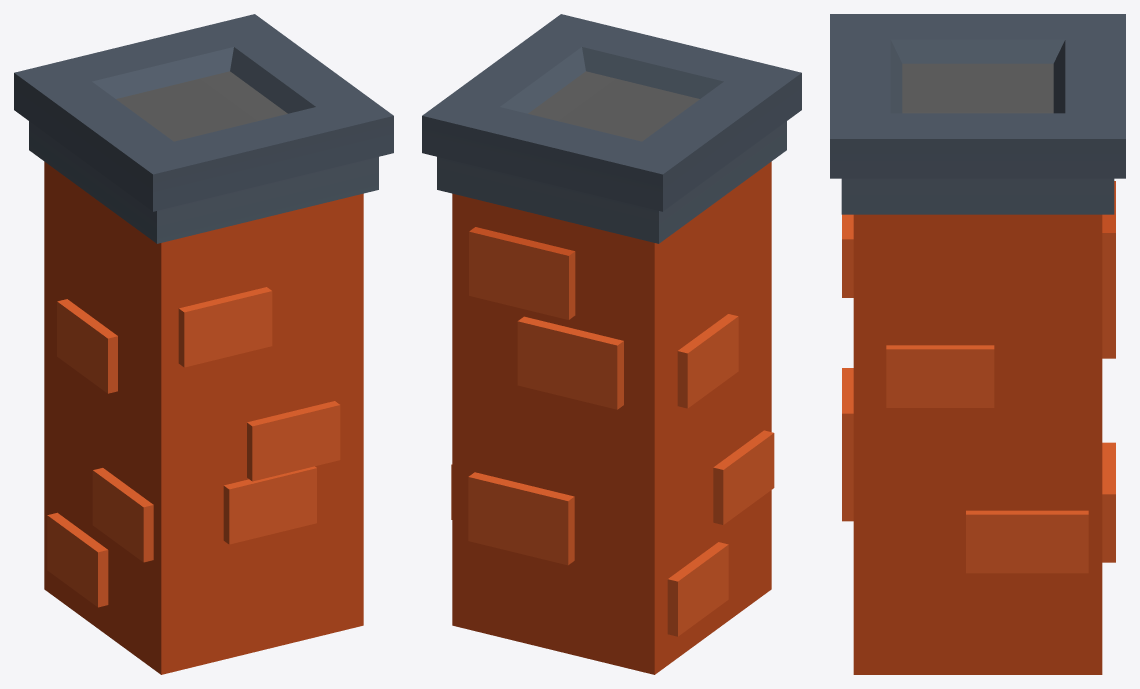
The model's file is Chimney_4_A_2.fbx.
3 renders of one model, left to right at view 1: azimuth 30°, elevation 25°; view 2: azimuth 150°, elevation 25°; view 3: azimuth 270°, elevation 25°, orthographic. The views are drawn at different scales.
Visible parts, largest first — view 1: Chimney_4_A_2; view 2: Chimney_4_A_2; view 3: Chimney_4_A_2.
Part boxes in pixels (x1,y1,x2,y2): Chimney_4_A_2: (14,14,393,674); Chimney_4_A_2: (422,14,801,674); Chimney_4_A_2: (830,14,1125,674).
Bounding box in the file's own units: 82.7 × 168 × 82.7.
